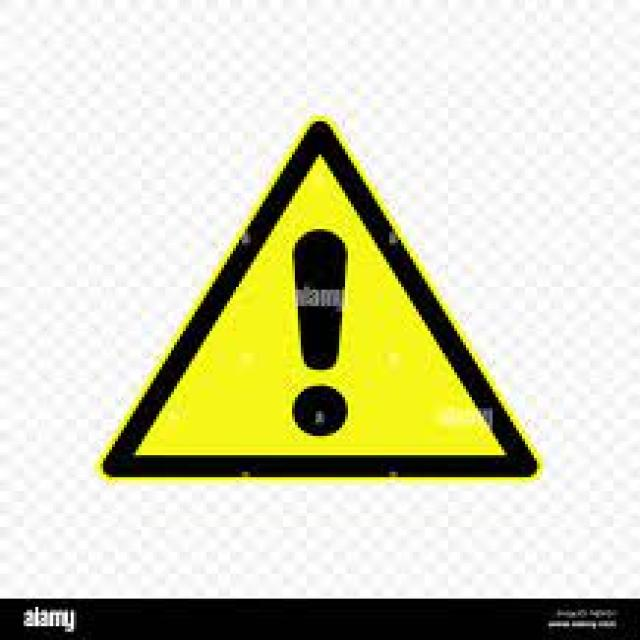Unspecified-Hazard: (43, 126, 573, 483)
